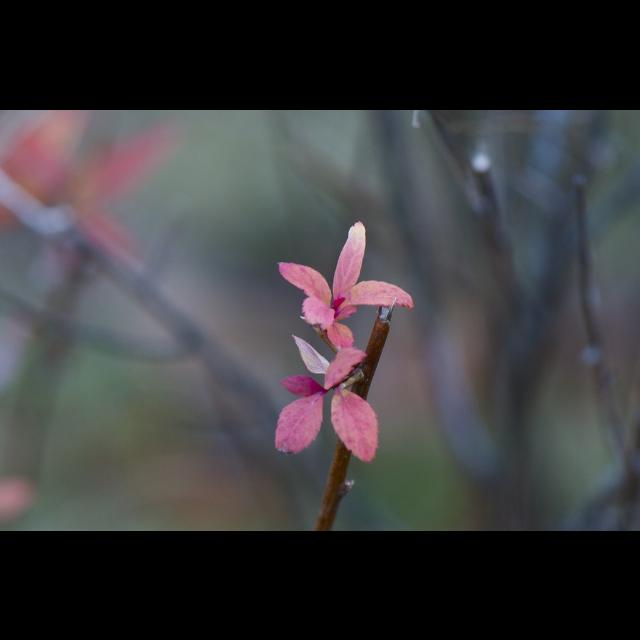Flower: (282, 224, 410, 348)
